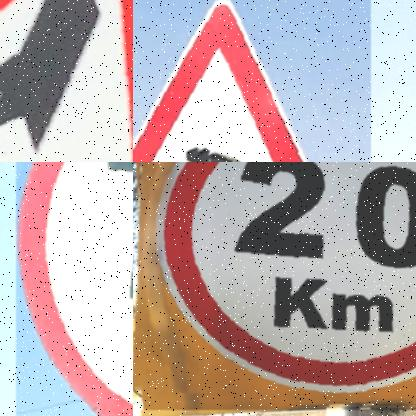Cross Roads: (0, 0, 133, 162)
Left bend: (133, 0, 302, 162)
Speed Limit (70 kmph): (17, 162, 133, 416)
Speed Limit -20 kmph-: (133, 162, 416, 410)
